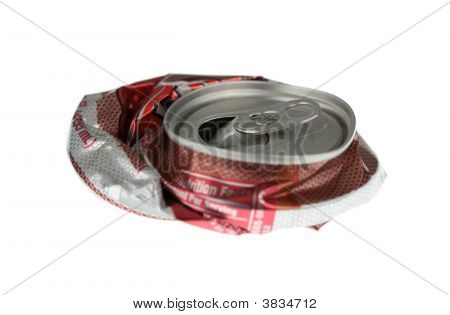can: (65, 73, 388, 237)
